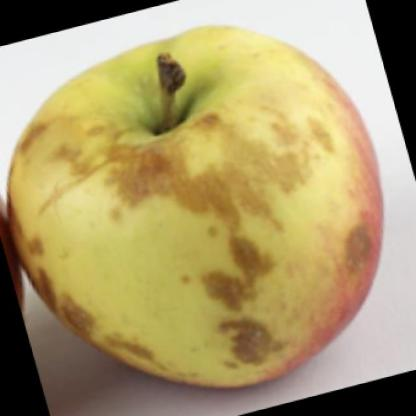defect: (46, 118, 358, 212), (211, 222, 373, 358), (27, 223, 163, 377)
